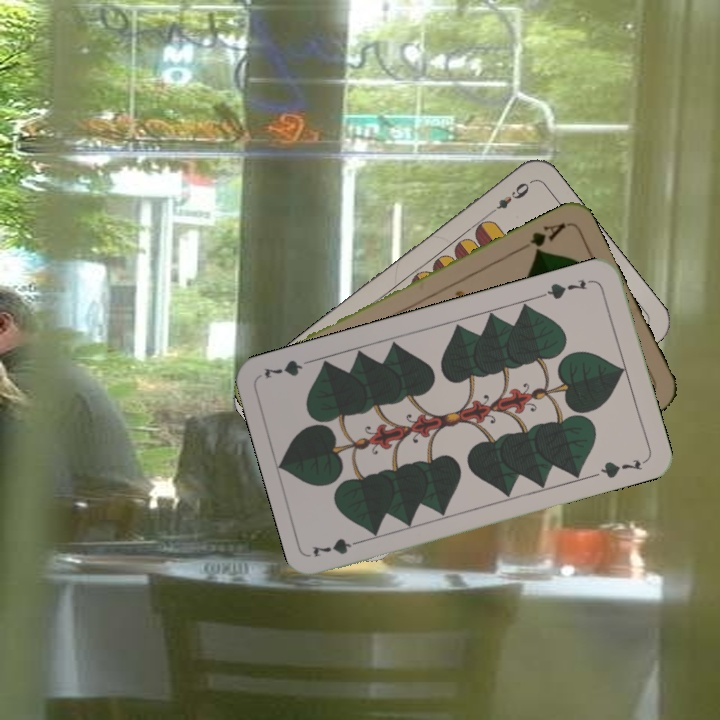E9: (483, 178, 532, 218)
G7: (538, 275, 596, 302), (308, 534, 368, 560)
GA: (526, 219, 569, 256)
